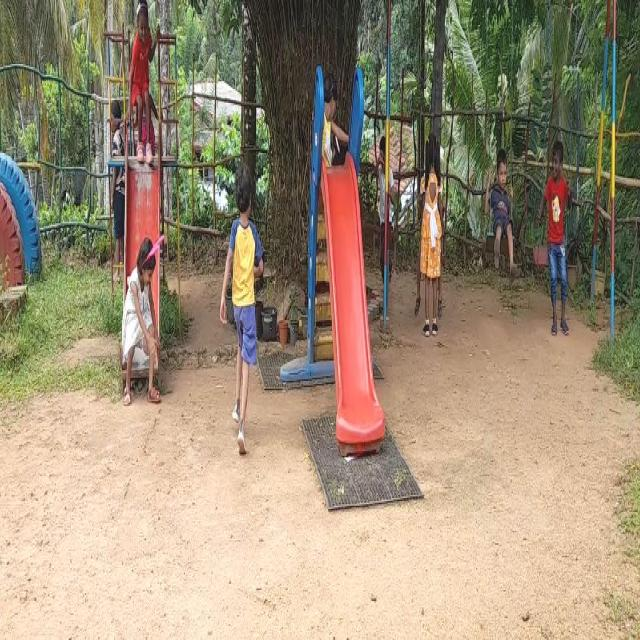child: (222, 147, 264, 445), (118, 232, 167, 418), (415, 107, 450, 357), (478, 116, 522, 309), (541, 129, 579, 336), (126, 0, 163, 186)
